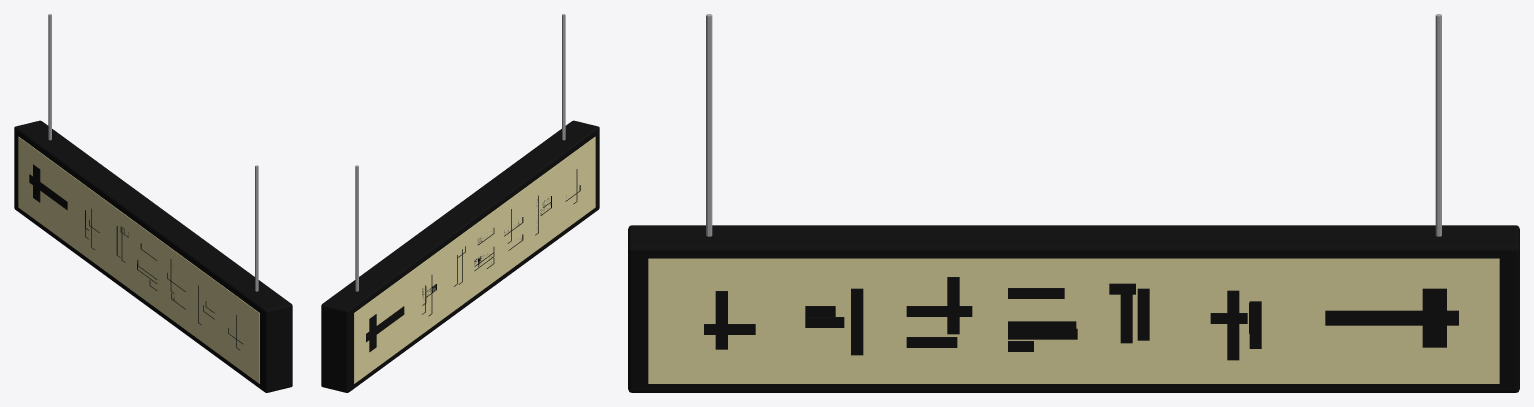
The model's file is sign_903_a.glb.
3 views of the same model, side by side, from view 1: azimuth 30°, elevation 25°; view 2: azimuth 150°, elevation 25°; view 3: azimuth 270°, elevation 25° (orthographic). The views are drawn at different scales.
Parts seen in each view (by area): view 1: licht-1, gehaeuse, pendel-1, pendel1, pfeil-1; view 2: licht-1, gehaeuse, pendel-1, pendel1, pfeil-1; view 3: licht1, gehaeuse, pfeil1, pendel-1, pendel1, pfeil_k1, z153, z112, z132, z141, z100.
Boxes of the visible parts, x1,y1,x2,y2 form: licht-1: [18, 136, 259, 383]; gehaeuse: [14, 120, 292, 392]; pendel-1: [255, 165, 258, 291]; pendel1: [48, 14, 51, 140]; pfeil-1: [29, 174, 67, 210]; licht-1: [354, 136, 595, 383]; gehaeuse: [321, 120, 599, 392]; pendel-1: [562, 14, 565, 140]; pendel1: [355, 165, 358, 291]; pfeil-1: [366, 306, 404, 342]; licht1: [648, 258, 1499, 383]; gehaeuse: [628, 225, 1519, 392]; pfeil1: [1325, 310, 1458, 325]; pendel-1: [706, 14, 712, 236]; pendel1: [1435, 14, 1441, 236]; pfeil_k1: [1422, 288, 1446, 347]; z153: [1227, 290, 1239, 360]; z112: [851, 288, 863, 355]; z132: [1008, 321, 1076, 332]; z141: [1120, 285, 1132, 343]; z100: [715, 291, 727, 349].
Bounding box in the file's own units: 0.154 × 1 × 2.2.
